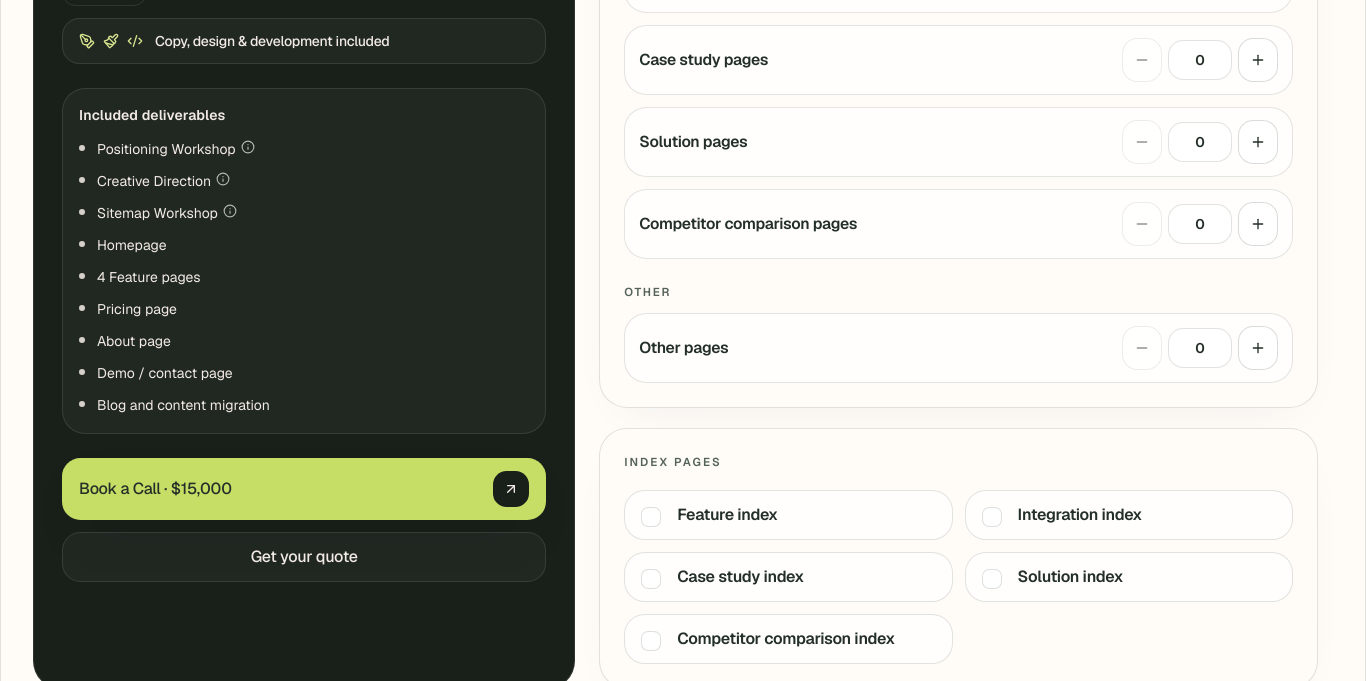
Test: WebsiteEstimator › reveals the quote panel and only enables send for a valid email
(page scrolled)
Step 1. Click the button "Get your quote" → (304, 557), box [62, 532, 546, 582]
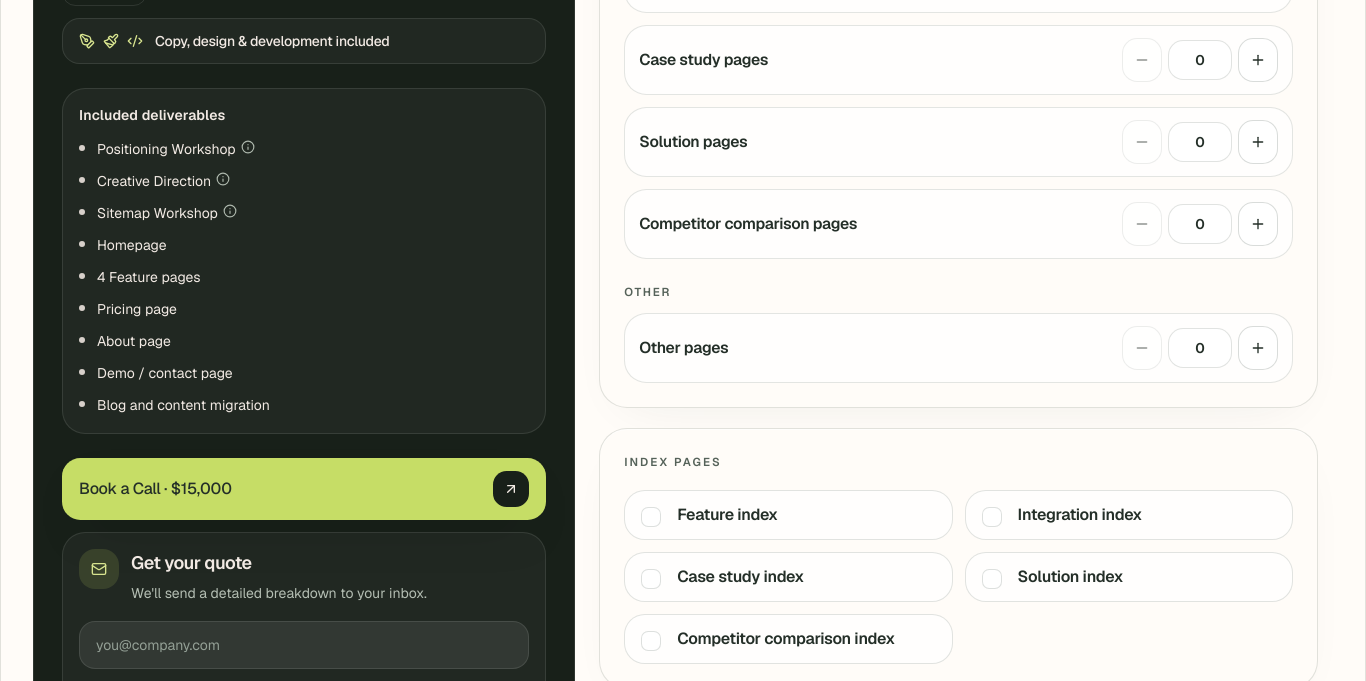
Step 2. Type "not-valid" into the field named "Email address" → (304, 645), box [79, 621, 529, 669]
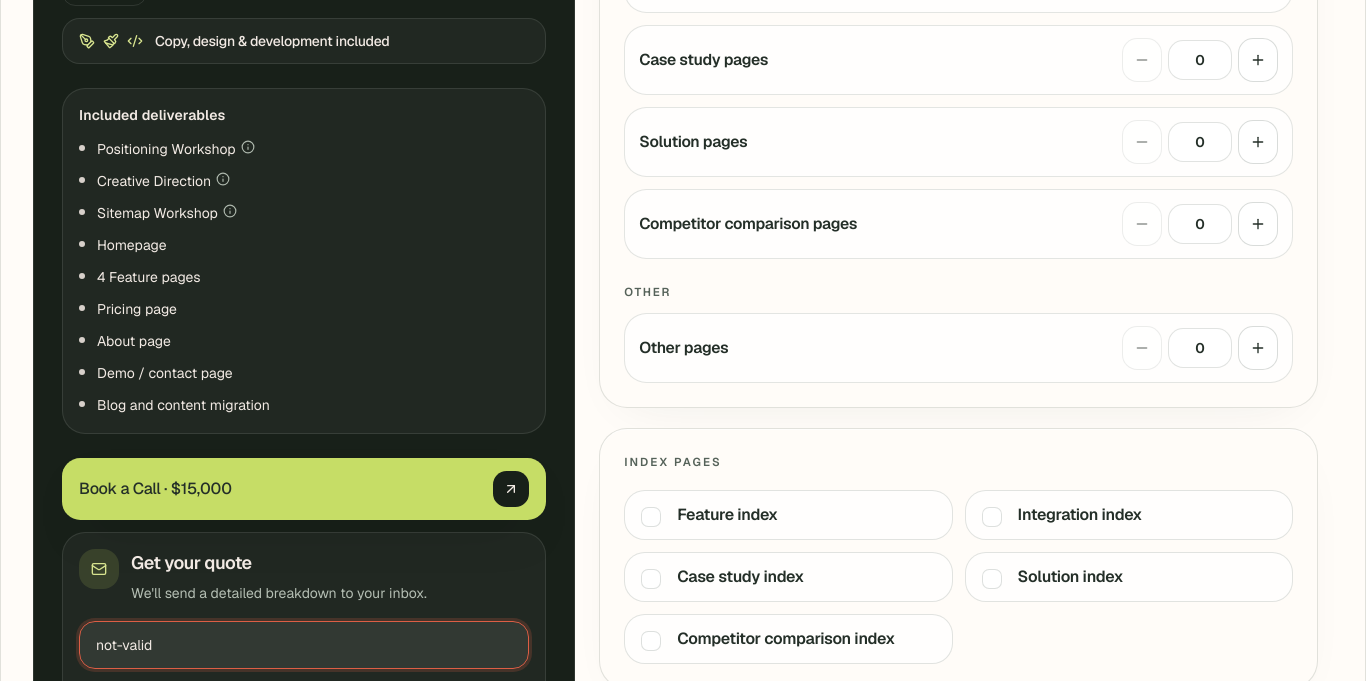
Step 3. Replace the text in the field named "Email address" with "hello@goodspeed.studio" → (304, 645), box [79, 621, 529, 669]
(page scrolled)
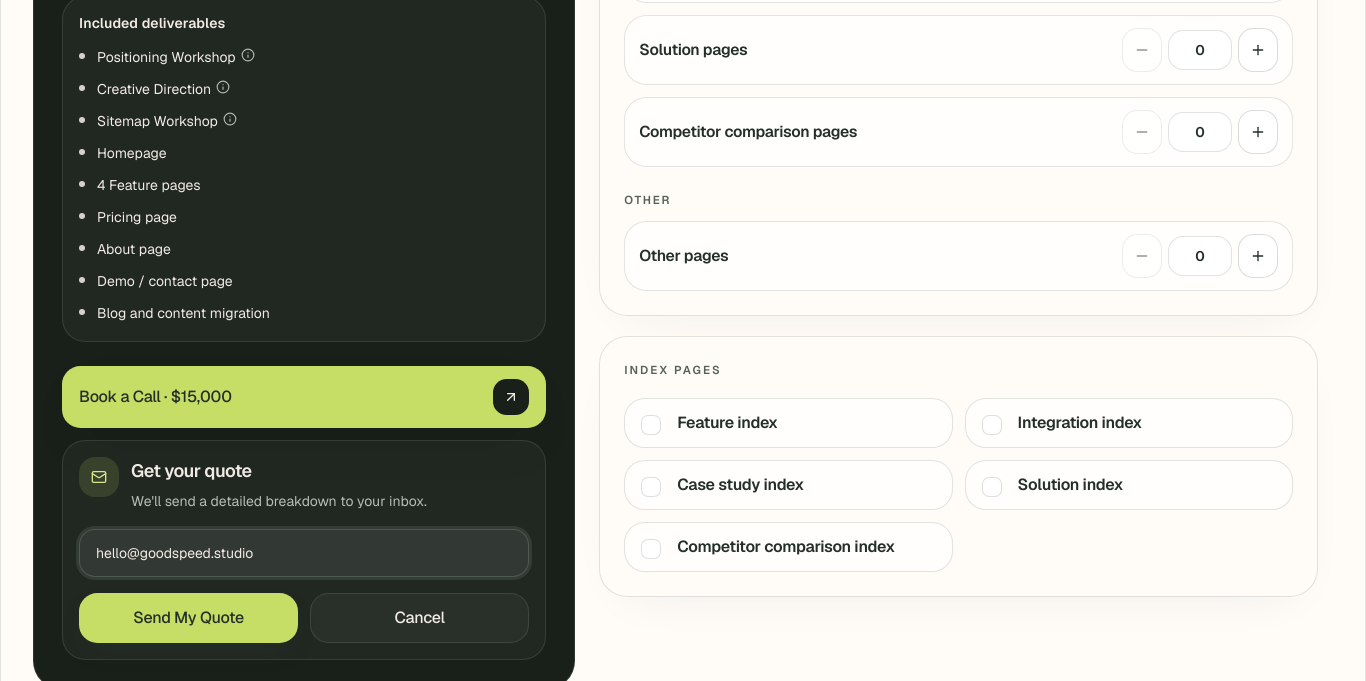
Expected: the button "Send My Quote" is enabled, [79, 593, 298, 643]
